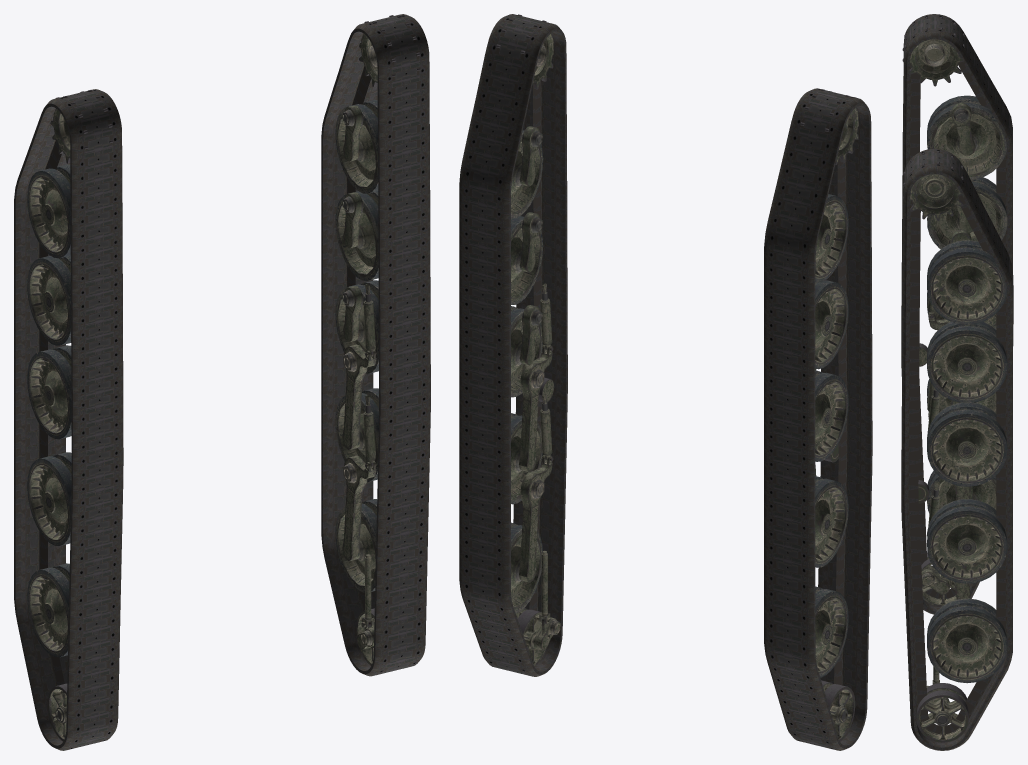
The model's file is Chassis.glb.
3 renders of one model, left to right at view 1: azimuth 30°, elevation 25°; view 2: azimuth 150°, elevation 25°; view 3: azimuth 270°, elevation 25°, orthographic. The views are drawn at different scales.
Parts seen in each view (by area): view 1: set_0_group_0, set_1_group_0, set_3_group_0, set_2_group_0; view 2: set_0_group_0, set_1_group_0, set_3_group_0, set_2_group_0; view 3: set_3_group_0, set_1_group_0, set_2_group_0, set_0_group_0.
Part boxes in pixels (x1,y1,x2,y2): set_0_group_0: (14, 89, 123, 750); set_1_group_0: (321, 14, 430, 676); set_3_group_0: (335, 15, 420, 665); set_2_group_0: (27, 90, 113, 741); set_0_group_0: (764, 88, 872, 750); set_1_group_0: (459, 14, 567, 676); set_3_group_0: (496, 14, 560, 666); set_2_group_0: (800, 89, 858, 741); set_3_group_0: (903, 151, 1007, 742); set_1_group_0: (901, 148, 1013, 750); set_2_group_0: (902, 16, 1007, 607); set_0_group_0: (901, 14, 1012, 614).
Size of the model in its own units: 3.19 by 5.56 by 0.9679.
Materials: 4 (4 with a texture image).
